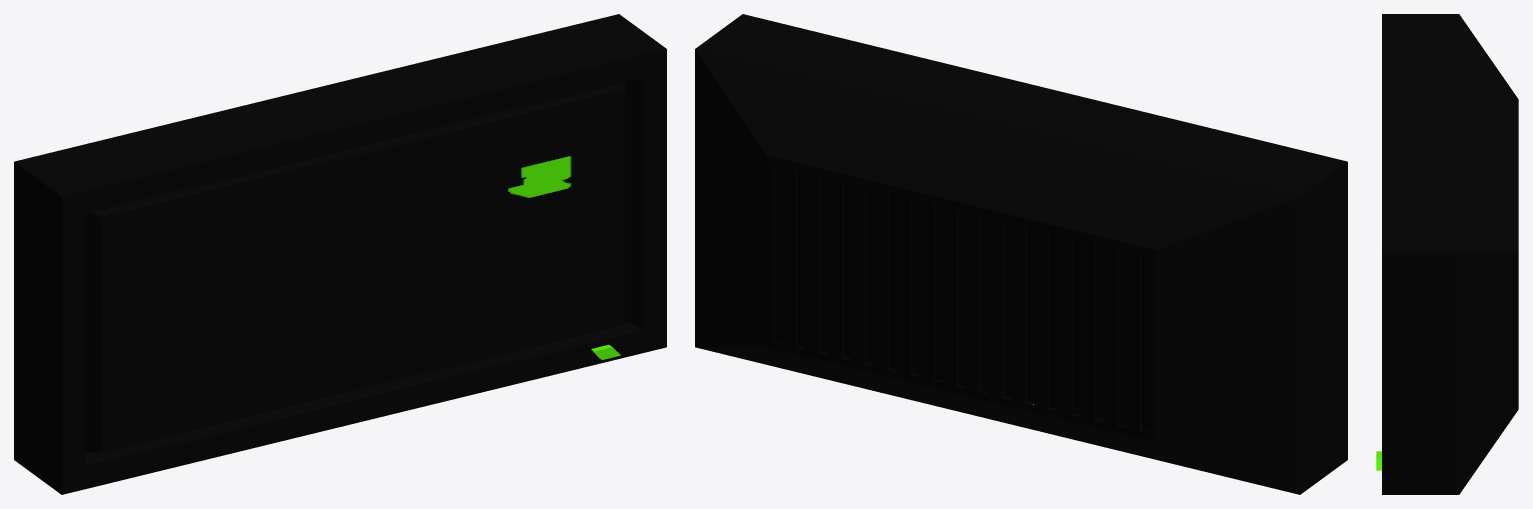
File: wide_screen.glb
3 views of the same model, side by side, from view 1: azimuth 30°, elevation 25°; view 2: azimuth 150°, elevation 25°; view 3: azimuth 270°, elevation 25° (orthographic). The views are drawn at different scales.
Visible parts, largest first — view 1: Screen, Frame; view 2: Frame; view 3: Frame.
Part boxes in pixels (left/top/right/bottom): Screen: left=101, top=89, right=624, bottom=452; Frame: left=14, top=14, right=666, bottom=494; Frame: left=695, top=14, right=1347, bottom=494; Frame: left=1376, top=14, right=1518, bottom=494.
Size of the model in its own units: 2 by 0.9425 by 0.5034.
1 material, 1 textured.
